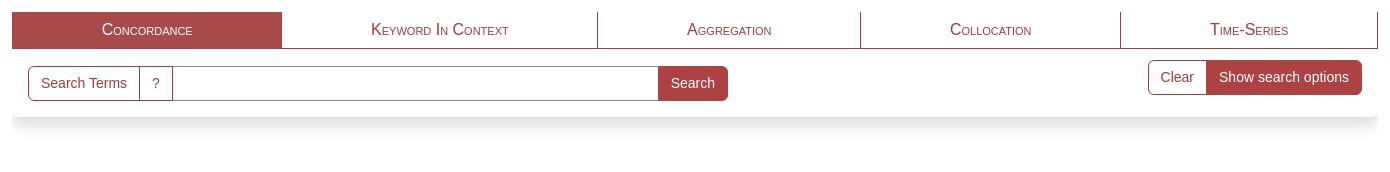
Test: SearchForm › shows tips label on hover
The width and height of the screenshot is (1390, 172).
Hover over the button with class "btn-outline-info" at (156, 84), box [139,66,173,101]
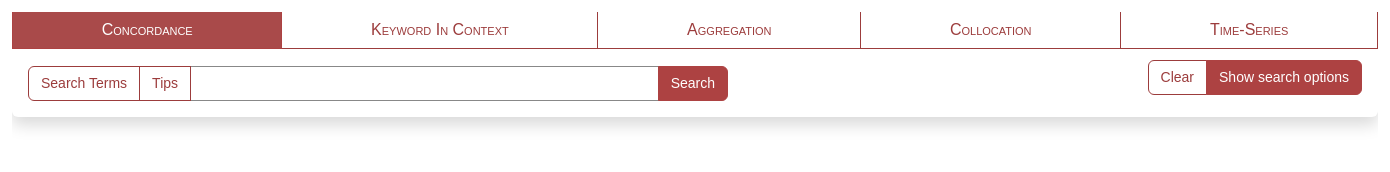
Check: the text with class "btn-outline-info" no longer shows "?"
Move the pointer off the button with class "btn-outline-info", box [139,66,191,101]
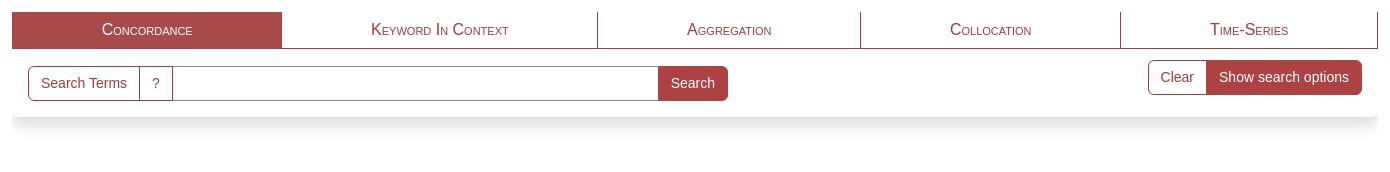
Check: the button with class "btn-outline-info" reads "?", box [139,66,173,101]
